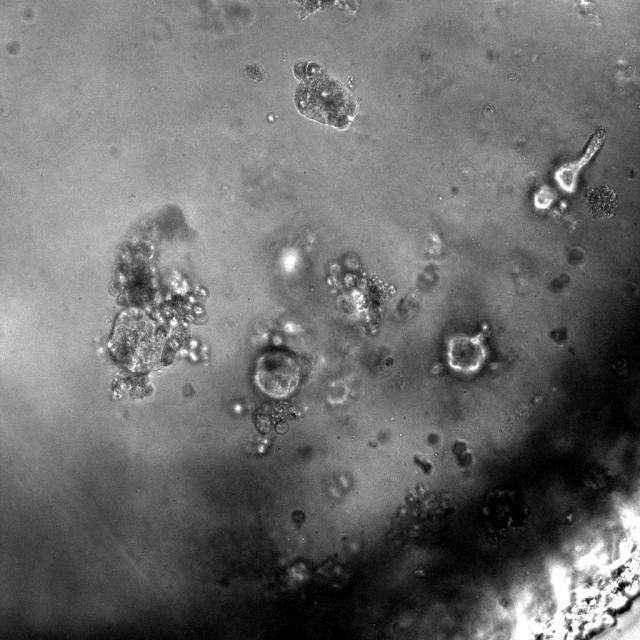organoid: (102, 204, 208, 399), (251, 332, 308, 456), (326, 251, 394, 332), (431, 321, 509, 379), (293, 60, 358, 129), (388, 483, 454, 545), (482, 488, 528, 540), (288, 0, 358, 19), (584, 185, 618, 218), (452, 440, 472, 467), (548, 272, 571, 293), (243, 63, 266, 82), (565, 246, 584, 264), (291, 508, 306, 529), (549, 327, 567, 343)
